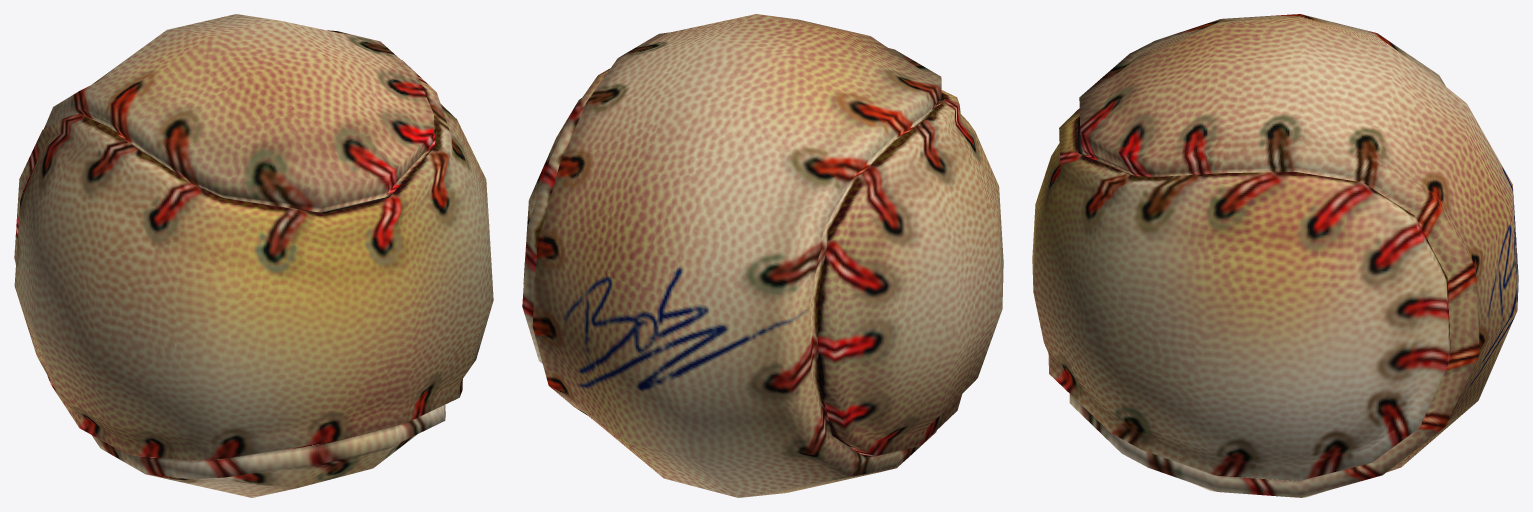
The model's file is Baseball_Bob.FBX.
The picture shows the model from 3 angles, left to right: view 1: azimuth 30°, elevation 25°; view 2: azimuth 150°, elevation 25°; view 3: azimuth 270°, elevation 25°; orthographic projection.
Parts seen in each view (by area): view 1: Box001; view 2: Box001; view 3: Box001.
Part boxes in pixels (x1,y1,x2,y2): Box001: (14,14,493,497); Box001: (522,14,1003,497); Box001: (1032,14,1518,497).
Size of the model in its own units: 20.04 by 19.97 by 20.03.
